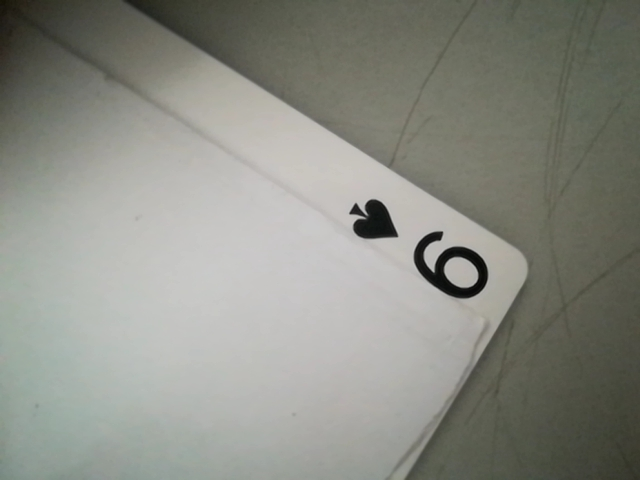ht 9: (330, 196, 506, 311)
